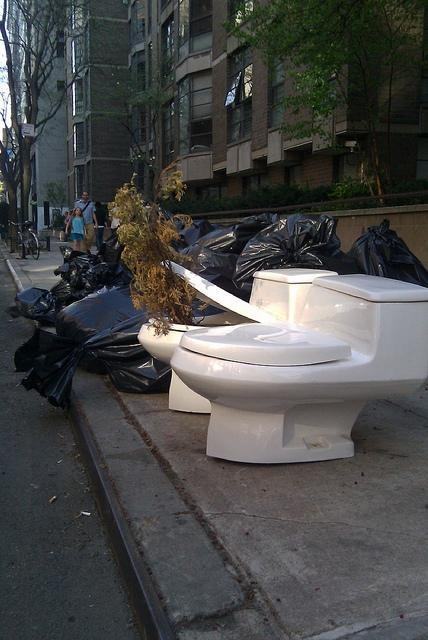bicycle: (8, 220, 42, 260)
